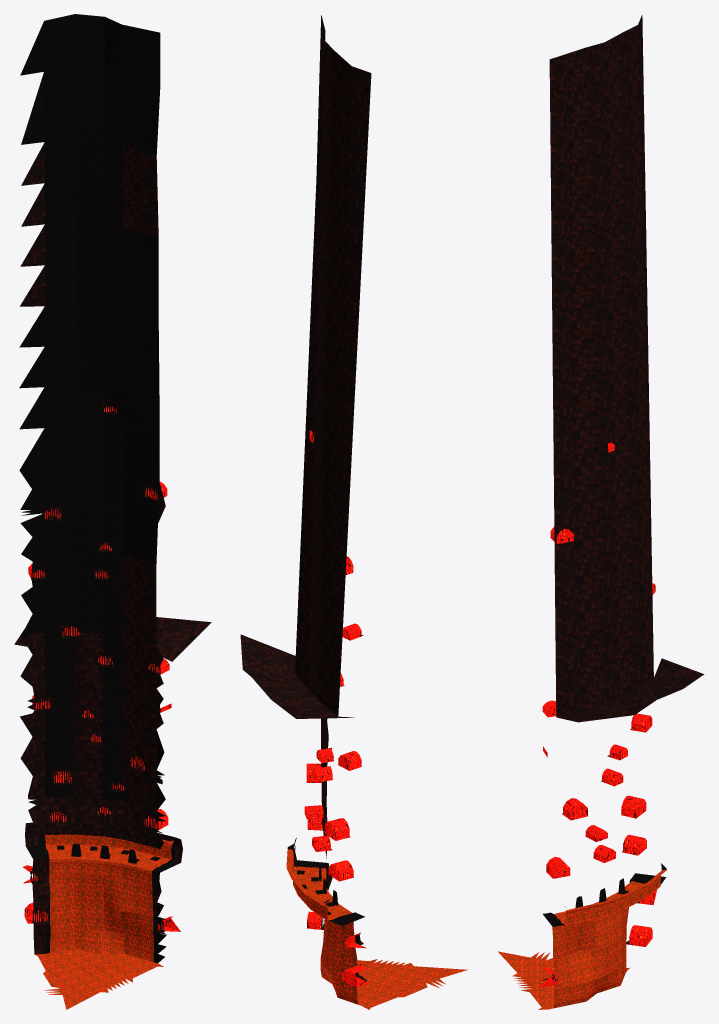
File: map_base_s5.glb
The picture shows the model from 3 angles, left to right: view 1: azimuth 30°, elevation 25°; view 2: azimuth 150°, elevation 25°; view 3: azimuth 270°, elevation 25°; orthographic projection. The views are drawn at different scales.
Visible parts, largest first — view 1: MapBaseS5Rock; view 2: MapBaseS5Rock; view 3: MapBaseS5Rock.
Boxes of the visible parts, x1,y1,x2,y2 form: MapBaseS5Rock: (14,14,211,1009); MapBaseS5Rock: (240,15,467,1009); MapBaseS5Rock: (498,15,704,1009).
Size of what is drawn, in the model's own units: 70.85 by 342 by 67.15.
6 materials, 6 textured.
